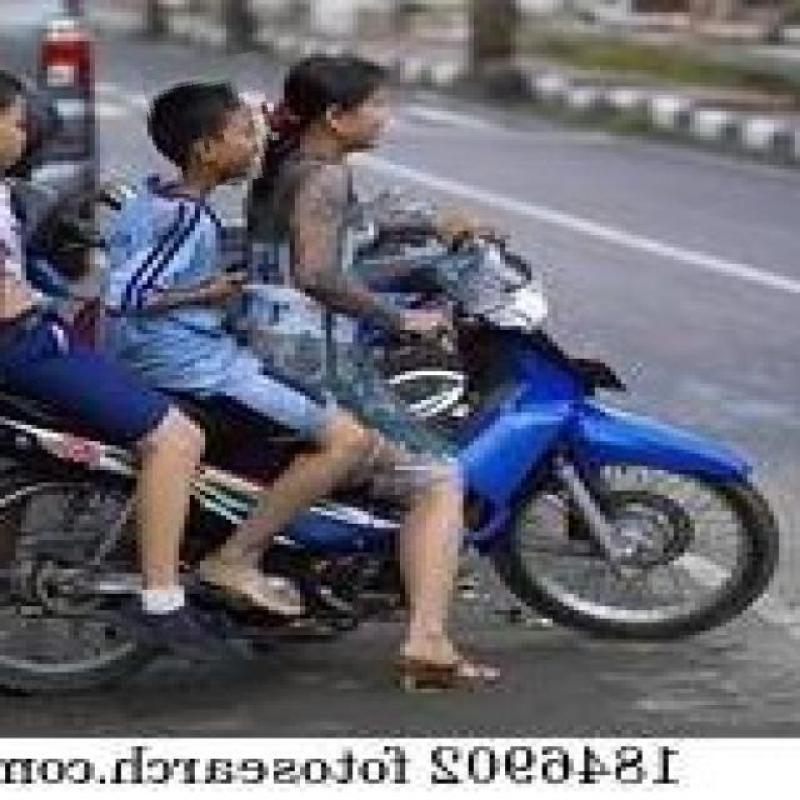nohelmet: (266, 36, 422, 164), (145, 55, 274, 190)
